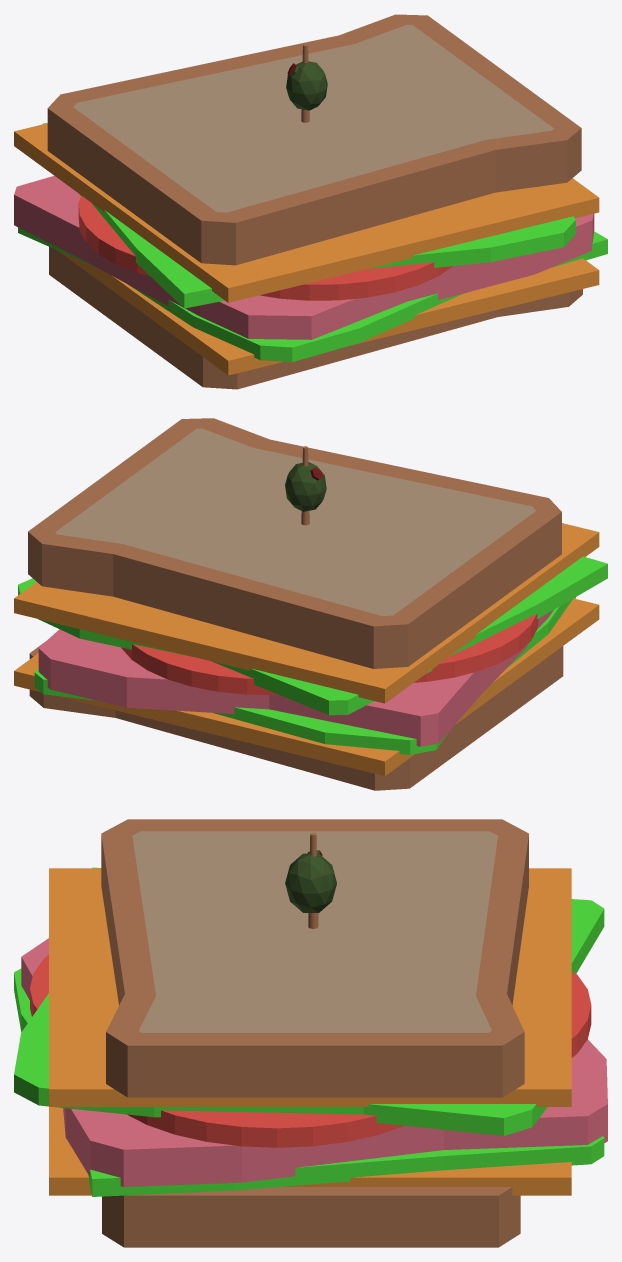
The model's file is Sammy_Model.fbx.
3 renders of one model, top to bottom at view 1: azimuth 30°, elevation 25°; view 2: azimuth 150°, elevation 25°; view 3: azimuth 270°, elevation 25°, orthographic. The views are drawn at different scales.
Visible parts, largest first — view 1: Sammy Bread, Cube, Cube.002, Sammy Bread.001, Cube.004, Cube.001, Cube.003, Cylinder.002, Cylinder.003, Icosphere; view 2: Sammy Bread, Cube, Cube.002, Sammy Bread.001, Cube.004, Cube.001, Cube.003, Tomato, Cylinder.003, Icosphere; view 3: Sammy Bread, Cube, Sammy Bread.001, Cube.002, Cube.001, Cube.003, Cube.004, Cylinder.001, Icosphere, Tomato, Cylinder.002.
Boxes of the visible parts, bbox=[...] form: Sammy Bread: bbox=[47, 14, 581, 265]; Cube: bbox=[14, 123, 599, 302]; Cube.002: bbox=[14, 175, 594, 339]; Sammy Bread.001: bbox=[49, 247, 582, 389]; Cube.004: bbox=[58, 251, 599, 375]; Cube.001: bbox=[42, 123, 575, 308]; Cube.003: bbox=[18, 227, 607, 362]; Cylinder.002: bbox=[260, 262, 453, 300]; Cylinder.003: bbox=[78, 195, 150, 276]; Icosphere: bbox=[286, 61, 327, 110]; Sammy Bread: bbox=[28, 418, 561, 668]; Cube: bbox=[14, 523, 599, 703]; Cube.002: bbox=[38, 610, 553, 746]; Sammy Bread.001: bbox=[29, 641, 563, 790]; Cube.004: bbox=[14, 598, 599, 775]; Cube.001: bbox=[18, 556, 607, 715]; Cube.003: bbox=[34, 597, 575, 754]; Tomato: bbox=[121, 644, 278, 694]; Cylinder.003: bbox=[414, 614, 538, 682]; Icosphere: bbox=[285, 462, 326, 511]; Sammy Bread: bbox=[101, 819, 528, 1097]; Cube: bbox=[49, 868, 571, 1106]; Sammy Bread.001: bbox=[102, 1187, 520, 1247]; Cube.002: bbox=[21, 938, 607, 1186]; Cube.001: bbox=[14, 867, 604, 1135]; Cube.003: bbox=[14, 968, 604, 1196]; Cube.004: bbox=[49, 1107, 571, 1195]; Cylinder.001: bbox=[127, 1110, 404, 1147]; Icosphere: bbox=[285, 850, 336, 912]; Tomato: bbox=[571, 972, 591, 1057]; Cylinder.002: bbox=[30, 955, 48, 1016].
Bounding box in the file's own units: 171 × 93.11 × 170.
